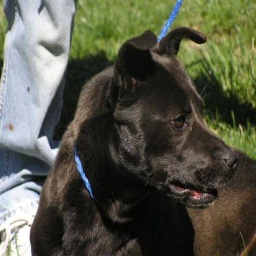dog: (31, 27, 240, 254)
